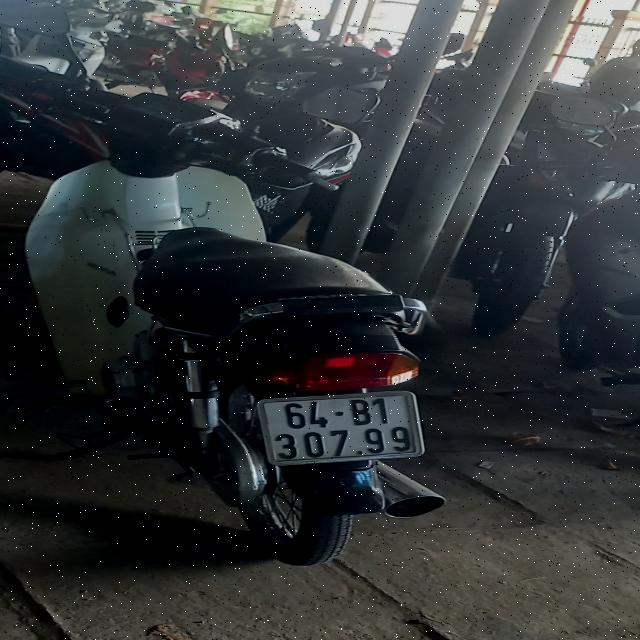0: (304, 432, 325, 458)
1: (371, 397, 391, 426)
3: (276, 434, 296, 459)
4: (309, 401, 329, 428)
6: (284, 404, 307, 428)
7: (330, 429, 350, 456)
9: (363, 428, 384, 453), (392, 427, 410, 451)
B: (351, 399, 372, 425)
